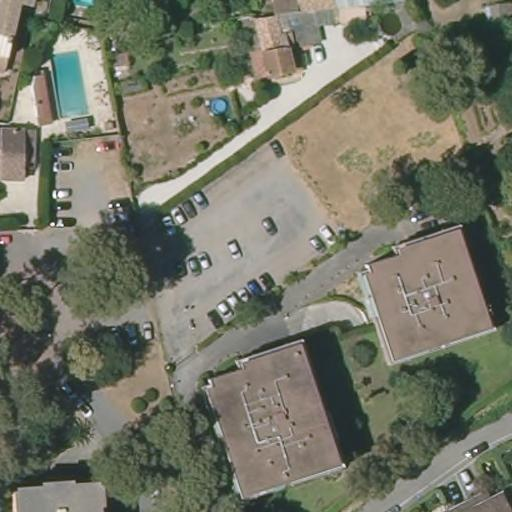pool: (43, 48, 94, 120), (205, 96, 227, 116)
